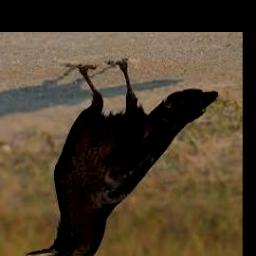Crow: (26, 59, 218, 256)
